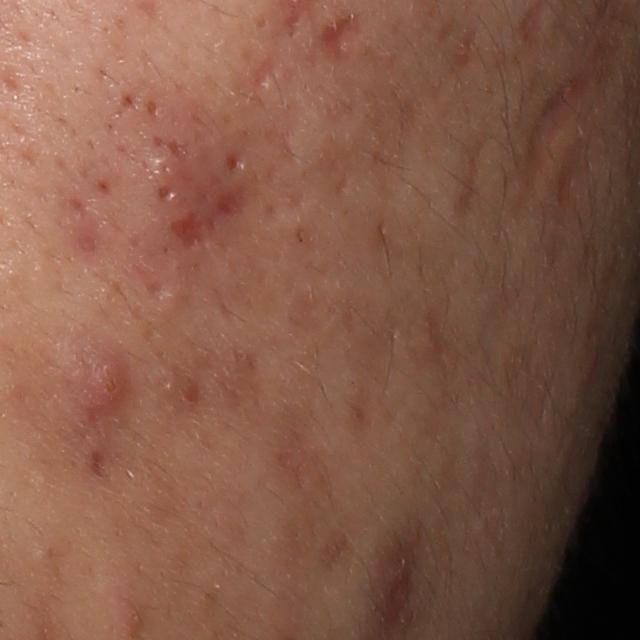atrophic_scar: (295, 64, 415, 215), (510, 50, 602, 223), (450, 117, 494, 219), (168, 207, 211, 248), (212, 185, 251, 219), (250, 50, 274, 89), (165, 137, 196, 163), (225, 150, 245, 173)
comedo: (157, 178, 179, 201), (146, 94, 163, 120)
papule: (75, 338, 140, 424)
